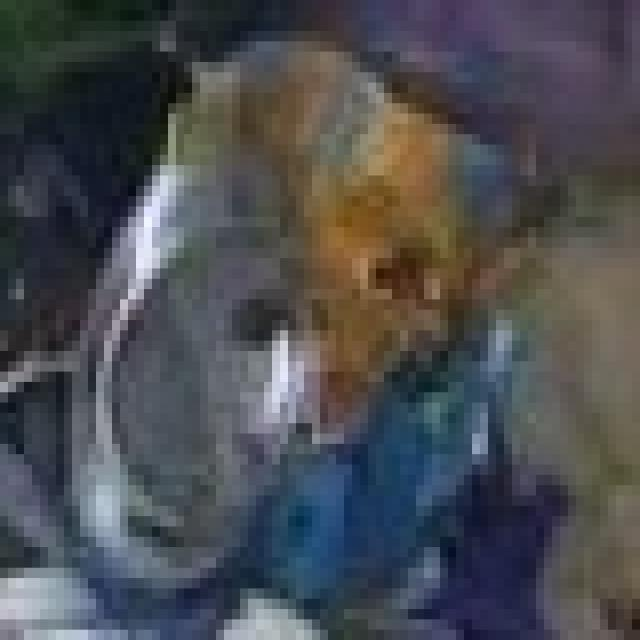can: (35, 21, 562, 640)
